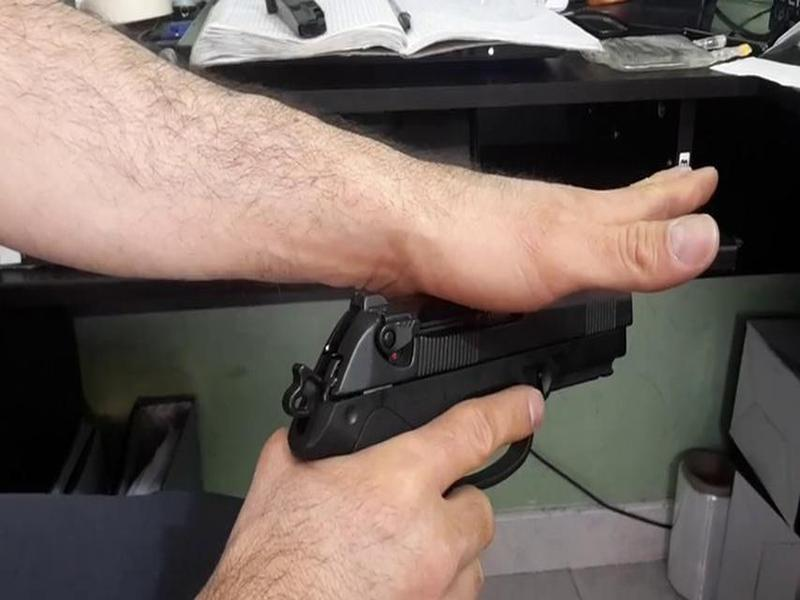Pistola: (254, 246, 686, 500)
